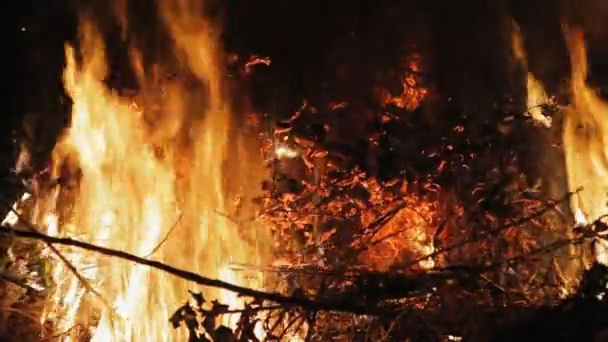fire: (5, 3, 292, 342), (562, 27, 608, 263), (524, 70, 553, 126), (416, 232, 433, 268)
